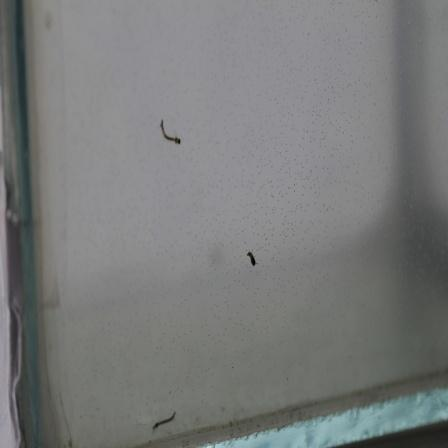Jentik-Nyamuk: (158, 116, 183, 151), (148, 407, 179, 431), (244, 245, 262, 271)
